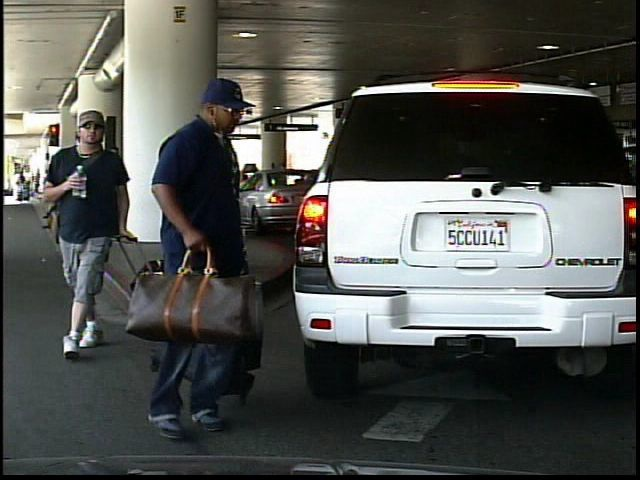person: (149, 75, 274, 440), (51, 101, 139, 358), (163, 131, 225, 270)
